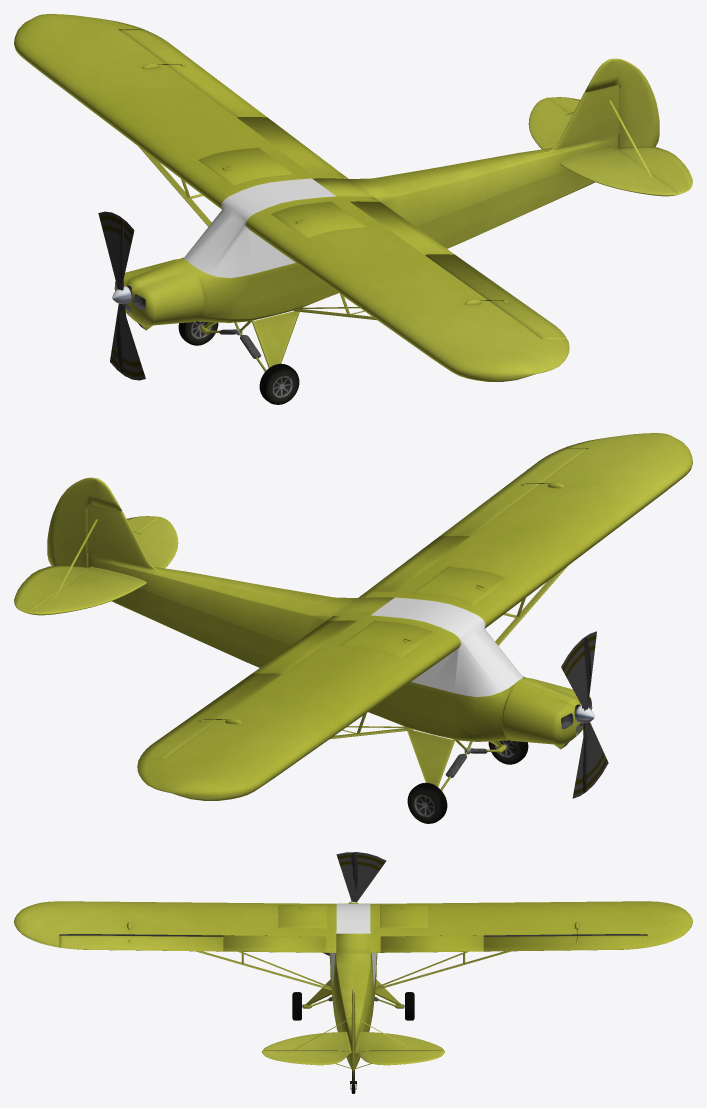
3 views of the same model, one above another, from view 1: azimuth 30°, elevation 25°; view 2: azimuth 150°, elevation 25°; view 3: azimuth 270°, elevation 25° (orthographic). The views are drawn at different scales.
Parts seen in each view (by area): view 1: ailes, fuselage, vitres, ailes2, capot, reservoirs, direction, aileronD, aileronG, profondeur, propdisc, voletD (+6 smaller); view 2: ailes, fuselage, vitres, ailes2, capot, reservoirs, direction, aileronG, aileronD, profondeur, propdisc, voletG (+6 smaller); view 3: ailes, fuselage, ailes2, aileronD, aileronG, reservoirs, profondeur, voletD, voletG, structure, vitres, propdisc (+2 smaller).
Boxes of the visible parts, <box> form: ailes: <box>14,14,569,381</box>; fuselage: <box>180,84,619,322</box>; vitres: <box>184,178,335,277</box>; ailes2: <box>528,98,678,196</box>; capot: <box>114,259,204,330</box>; reservoirs: <box>198,147,366,238</box>; direction: <box>585,58,659,147</box>; aileronD: <box>120,29,266,117</box>; aileronG: <box>425,254,566,339</box>; profondeur: <box>547,97,692,194</box>; propdisc: <box>98,211,145,380</box>; voletD: <box>237,117,341,173</box>; ailes: <box>137,433,692,800</box>; fuselage: <box>87,503,526,741</box>; vitres: <box>371,597,522,696</box>; ailes2: <box>28,517,178,615</box>; capot: <box>502,678,592,749</box>; reservoirs: <box>340,566,508,657</box>; direction: <box>47,477,121,566</box>; aileronG: <box>440,448,586,536</box>; aileronD: <box>140,673,281,758</box>; profondeur: <box>14,516,159,613</box>; propdisc: <box>561,631,608,798</box>; voletG: <box>365,536,469,592</box>; ailes: <box>14,901,692,952</box>; fuselage: <box>329,933,377,1070</box>; ailes2: <box>262,1031,444,1051</box>; aileronD: <box>483,935,647,951</box>; aileronG: <box>59,935,223,951</box>; reservoirs: <box>278,905,428,928</box>; profondeur: <box>262,1051,444,1065</box>; voletD: <box>380,935,483,952</box>; voletG: <box>223,935,326,952</box>; structure: <box>196,951,510,1068</box>; vitres: <box>330,904,376,986</box>; propdisc: <box>323,852,386,955</box>.
Size of the model in its own units: 6.92 by 2.7 by 10.71.
3 materials, 2 textured.
